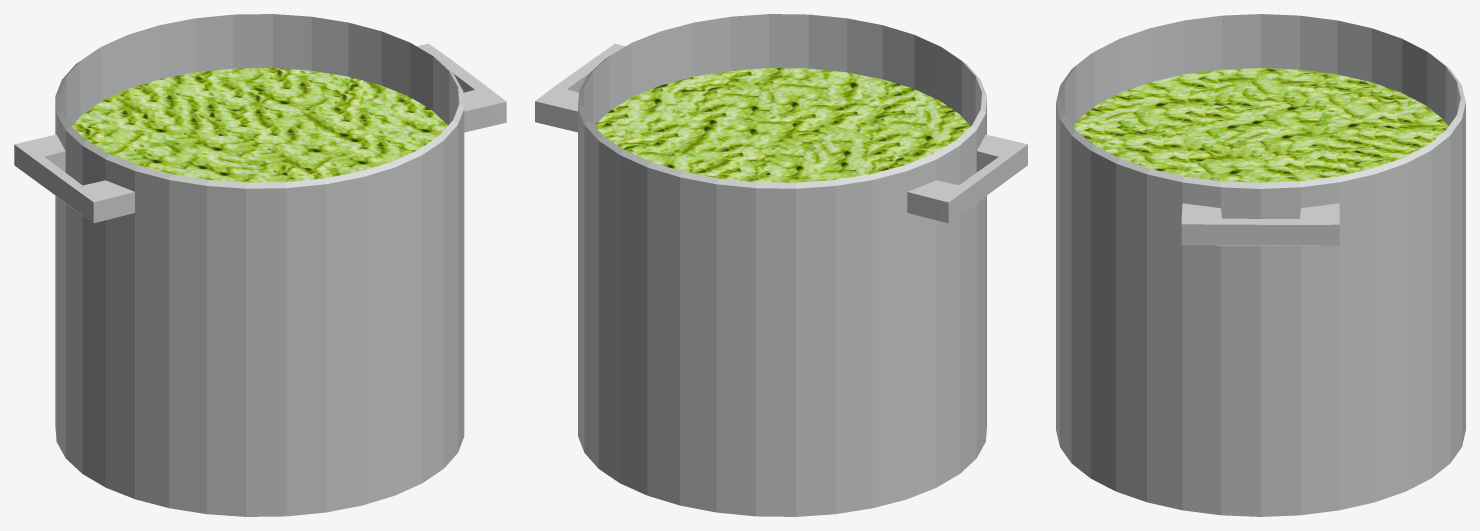
File: OllaAguacate.fbx
3 views of the same model, side by side, from view 1: azimuth 30°, elevation 25°; view 2: azimuth 150°, elevation 25°; view 3: azimuth 270°, elevation 25° (orthographic).
Parts seen in each view (by area): view 1: Olla, Circle; view 2: Olla, Circle; view 3: Olla, Circle.
Boxes of the visible parts, <box> form: Olla: <box>14,14,506,516</box>; Circle: <box>72,68,447,182</box>; Olla: <box>535,14,1027,516</box>; Circle: <box>594,68,970,182</box>; Olla: <box>1056,14,1465,516</box>; Circle: <box>1073,68,1448,182</box>.
Bounding box in the file's own units: 22.63 × 17.32 × 19.37.
